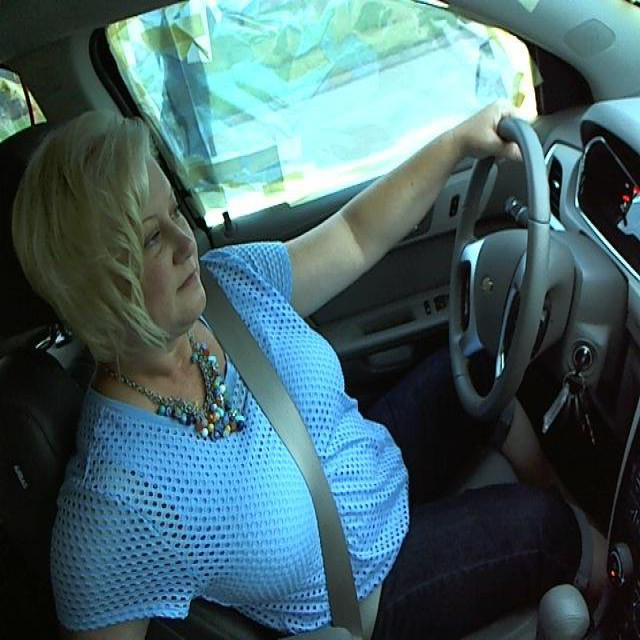seatbelt: (217, 336, 371, 639)
